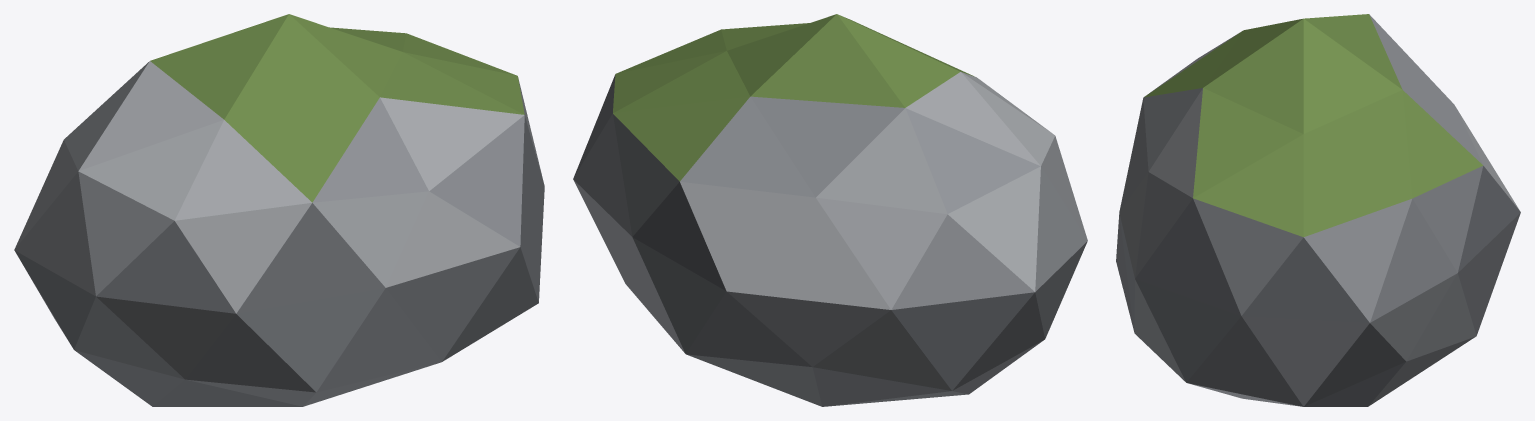
File: rock_big.glb
The picture shows the model from 3 angles, left to right: view 1: azimuth 30°, elevation 25°; view 2: azimuth 150°, elevation 25°; view 3: azimuth 270°, elevation 25°; orthographic projection. The views are drawn at different scales.
Parts seen in each view (by area): view 1: rock_big; view 2: rock_big; view 3: rock_big.
Part boxes in pixels (x1,y1,x2,y2): rock_big: [14, 14, 544, 406]; rock_big: [573, 14, 1087, 406]; rock_big: [1116, 14, 1520, 406].
Size of the model in its own units: 1.55 by 1.12 by 1.19.
Materials: 1 (1 with a texture image).
